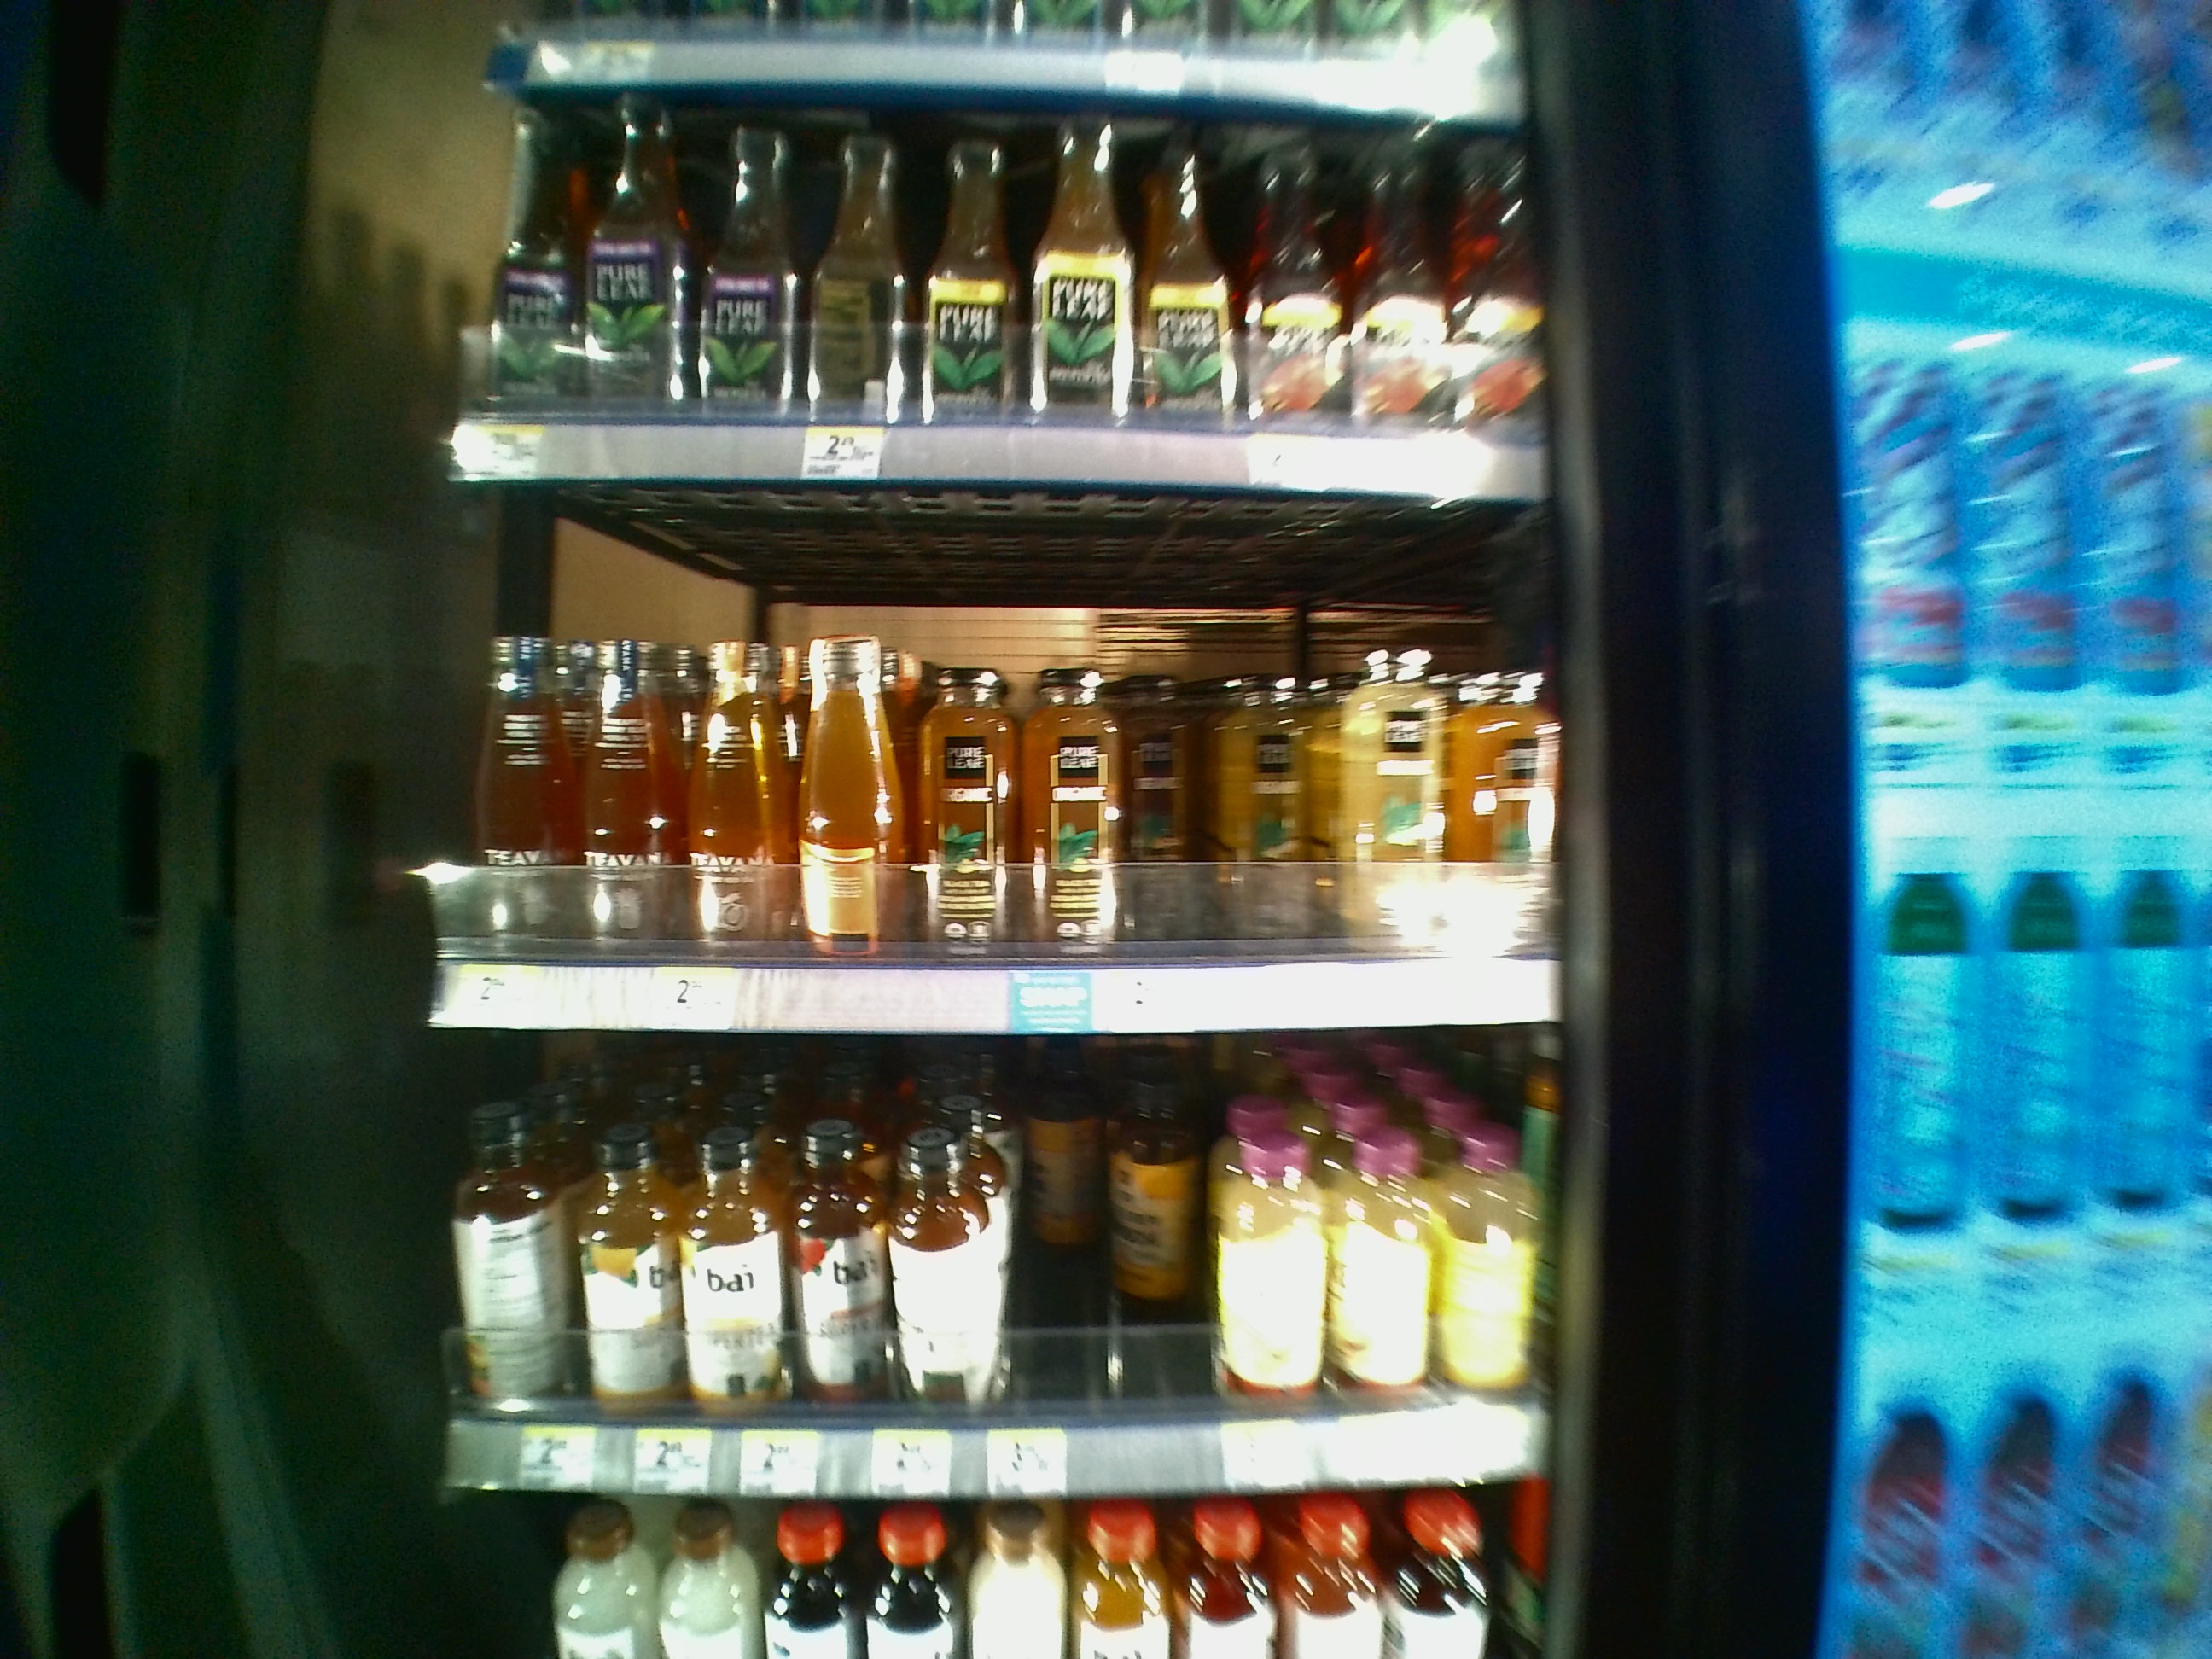shelf: (425, 516, 1561, 1025), (434, 1040, 1575, 1493), (451, 82, 1548, 495)
